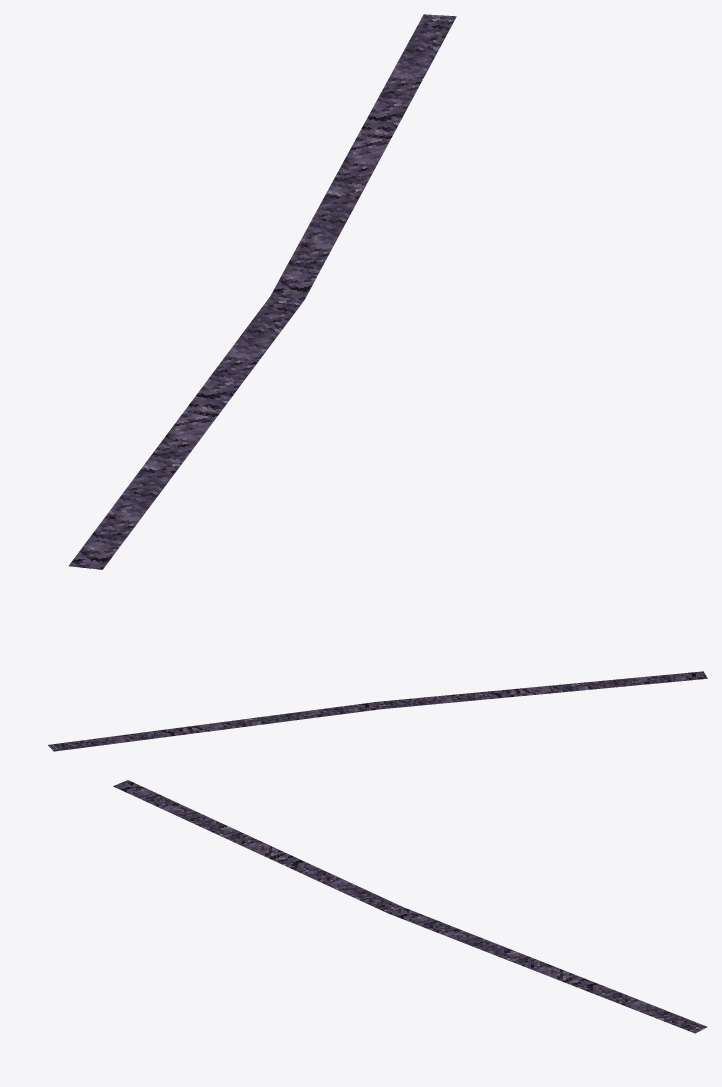
The picture shows the model from 3 angles, top to bottom: view 1: azimuth 30°, elevation 25°; view 2: azimuth 150°, elevation 25°; view 3: azimuth 270°, elevation 25°; orthographic projection. The views are drawn at different scales.
Visible parts, largest first — view 1: Object02; view 2: Object02; view 3: Object02.
Part boxes in pixels (x1,y1,x2,y2): Object02: (68,14,456,569); Object02: (48,671,707,751); Object02: (113,780,707,1033).
Size of the model in its own units: 2916 by 0.8833 by 2919.
1 material, 1 textured.
